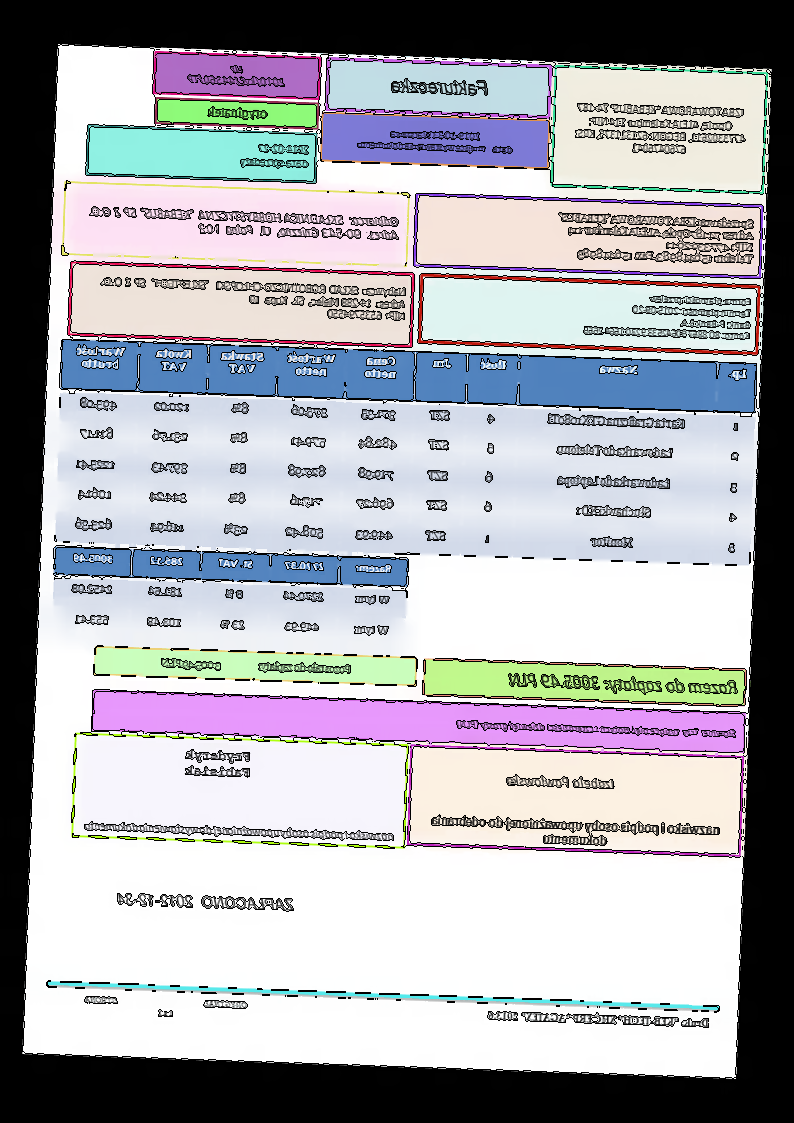Table: (54, 338, 759, 568), (49, 544, 411, 650)
TextBox: (98, 274, 408, 323), (86, 204, 403, 242), (555, 208, 757, 267), (430, 813, 722, 852), (572, 99, 749, 158), (583, 289, 754, 341), (82, 817, 397, 844), (506, 669, 740, 696), (454, 718, 738, 740), (485, 1008, 713, 1031), (355, 126, 516, 157), (83, 993, 248, 1021), (114, 890, 297, 915), (159, 655, 354, 677), (185, 60, 288, 92), (181, 747, 254, 779), (239, 141, 311, 173), (390, 75, 489, 98), (504, 773, 616, 791), (205, 104, 271, 122)
